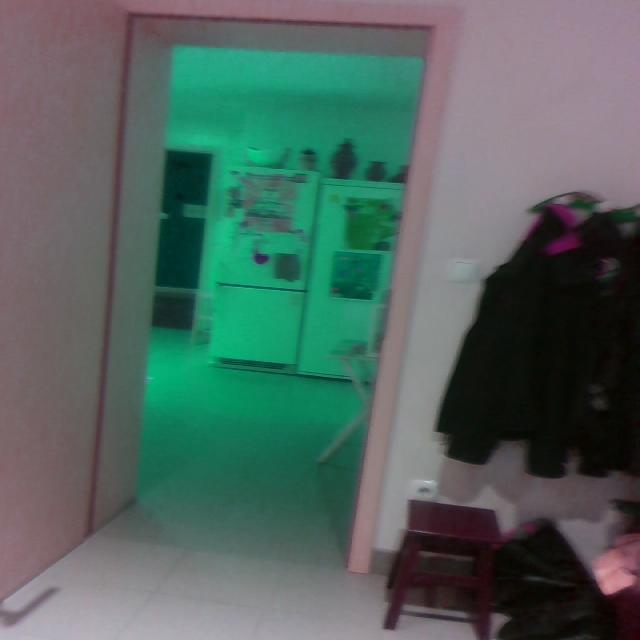door: (61, 2, 456, 576)
